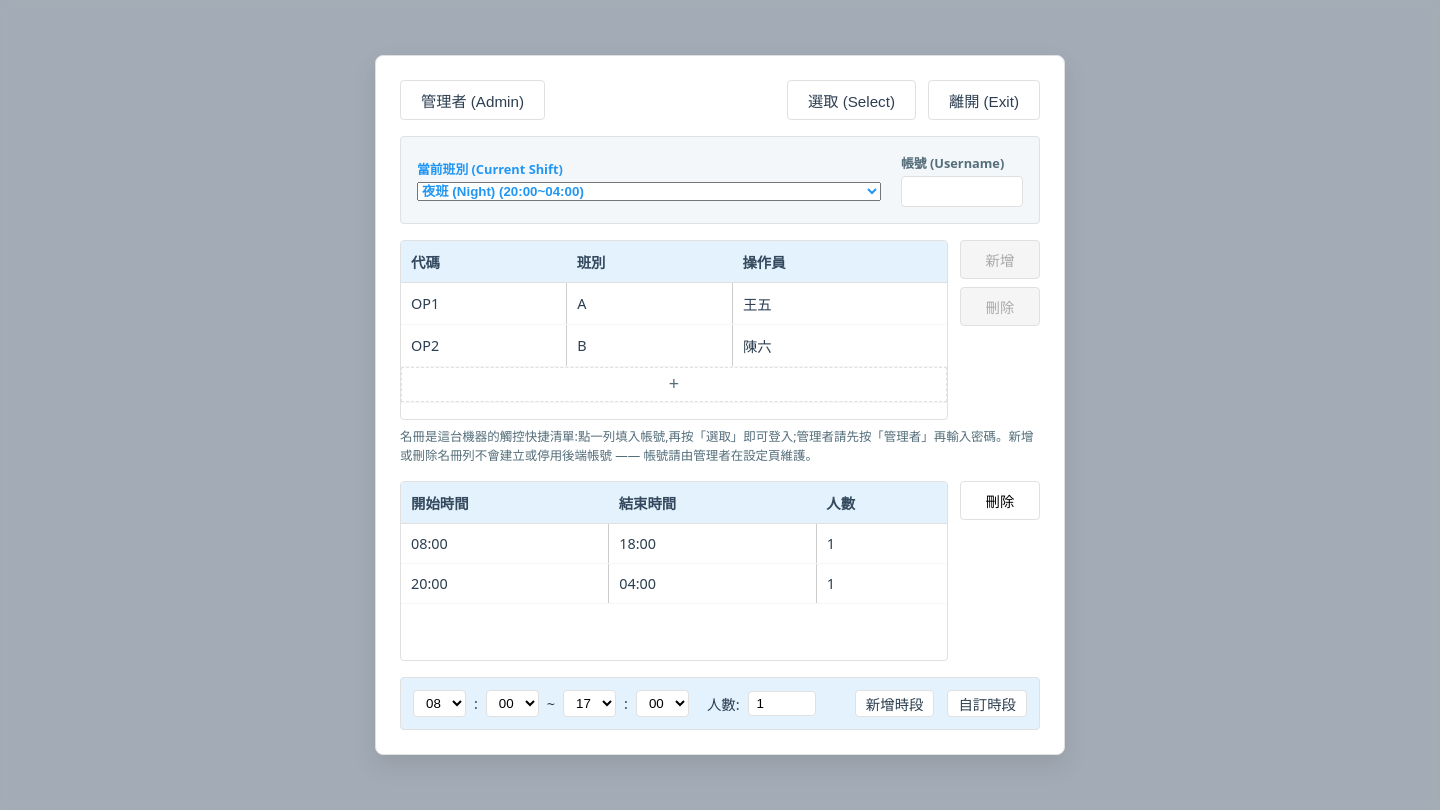
Test: S13 點名冊列不得靜默覆寫已輸入的帳號 › 改動帳號欄會收掉保留提示
Check: the text "帳號 (Username)" is shown, box [901,154,1004,172]
Step 1. Type "admin" into the field named "帳號 (Username)" → x=962, y=191, box [901,176,1023,207]
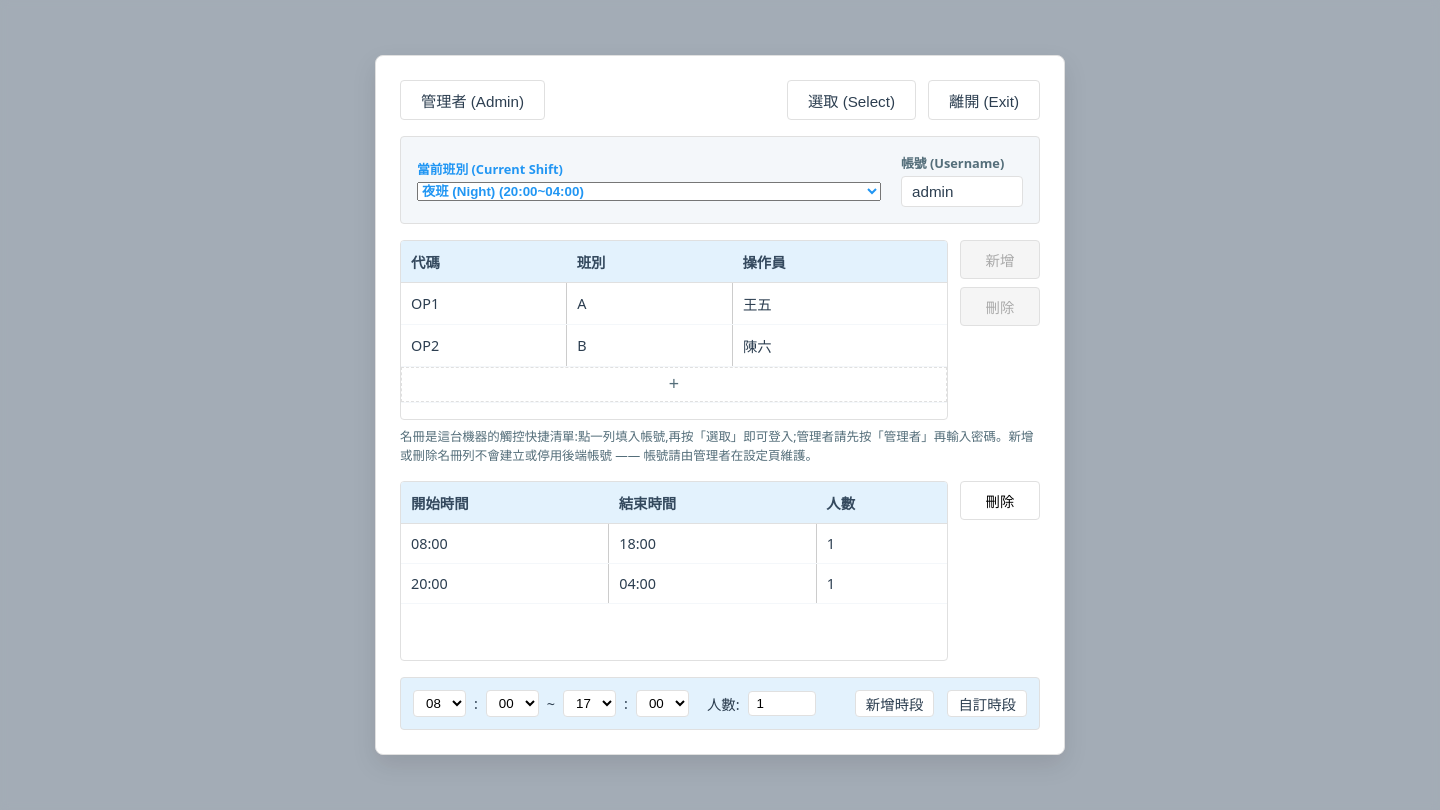
Step 2. Click the text "王五" → x=840, y=303, box [732,282,947,324]
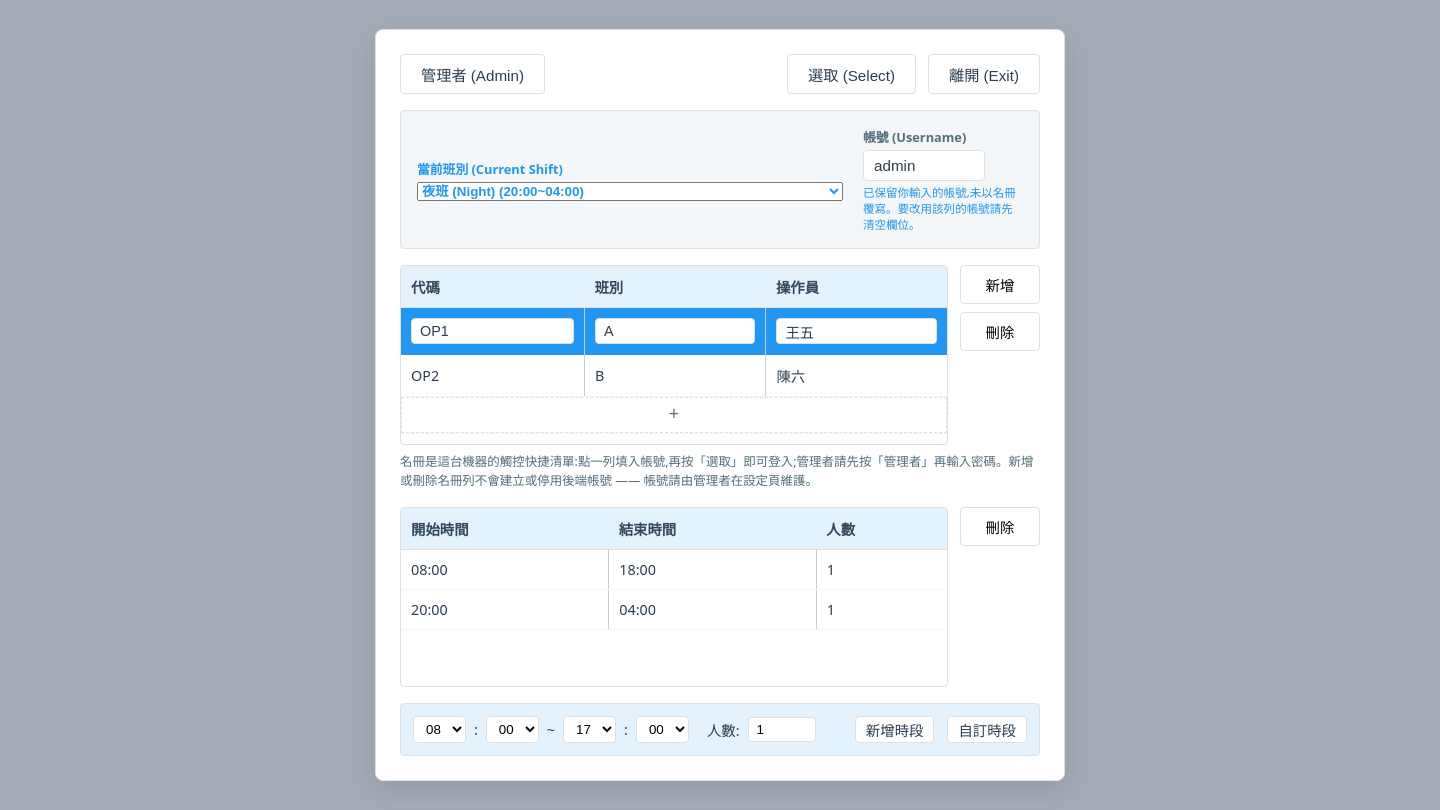
Check: the text "已保留你輸入的帳號,未以名冊覆寫。要改用該列的帳號請先清空欄位。" is shown, box [863,186,1023,232]
Step 3. Replace the text in the field named "帳號 (Username)" with "admin2" → x=924, y=166, box [863,150,985,182]
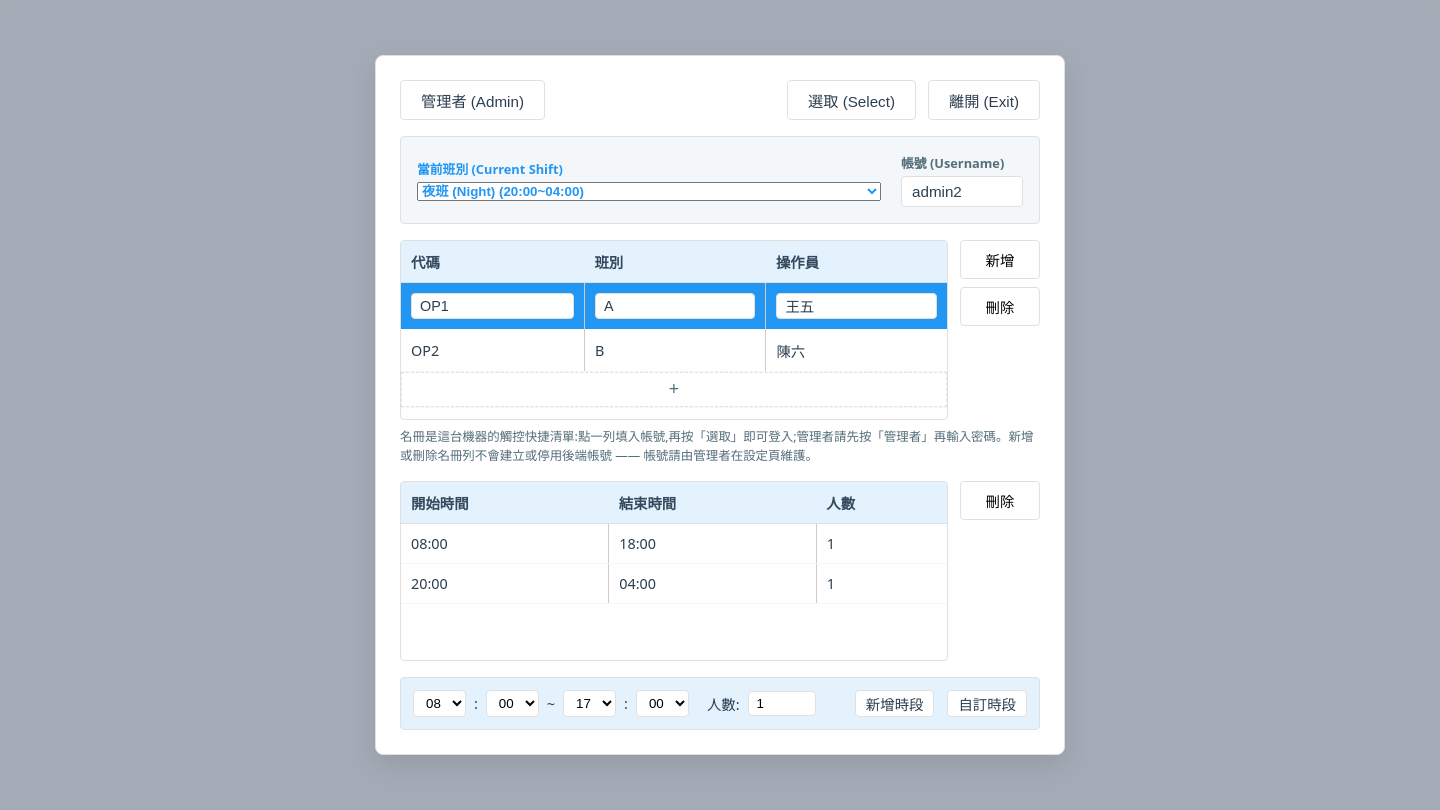
Check: the text "已保留你輸入的帳號" is gone
